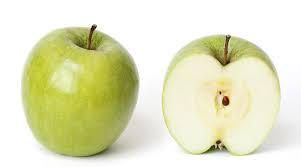apple: (28, 32, 132, 155)
damaged_apple: (161, 36, 283, 156)
